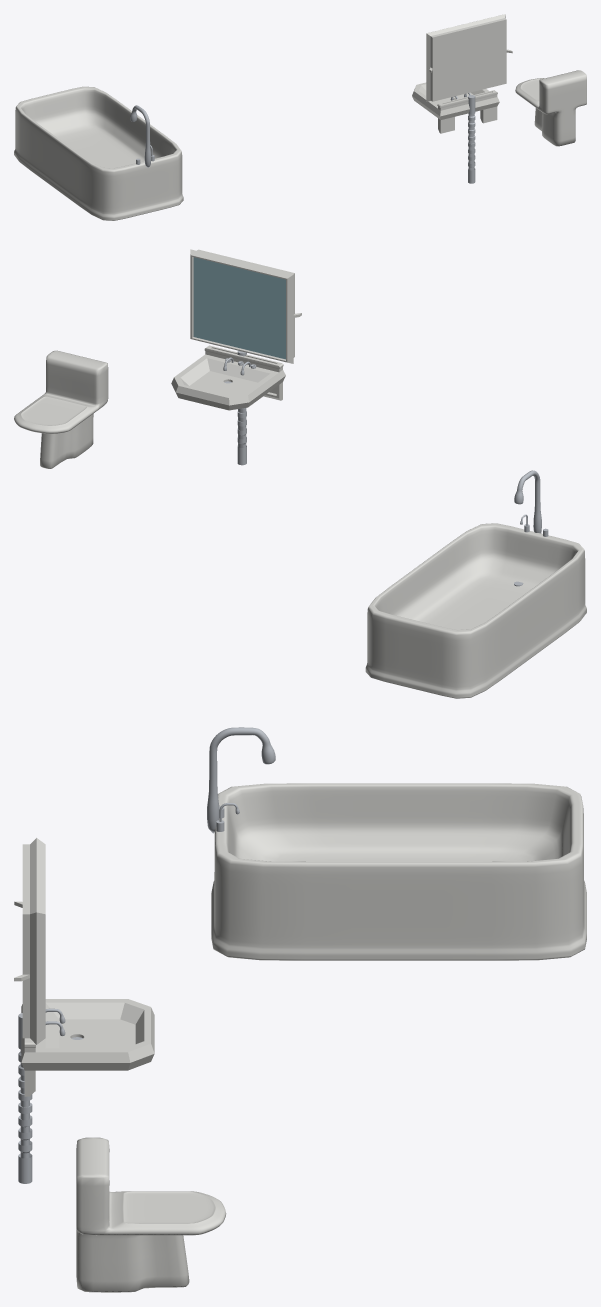
Rendered from furniture_bath_f2.glb.
3 renders of one model, top to bottom at view 1: azimuth 30°, elevation 25°; view 2: azimuth 150°, elevation 25°; view 3: azimuth 270°, elevation 25°, orthographic. The views are drawn at different scales.
Parts seen in each view (by area): view 1: FURN_tub, FURN_mirror, FURN_toilet, FURN_sink, FURN_pipe, FURN_tub_shower; view 2: FURN_tub, FURN_mirror, FURN_toilet, FURN_sink, FURN_tub_shower, FURN_pipe; view 3: FURN_tub, FURN_toilet, FURN_sink, FURN_mirror, FURN_tub_shower, FURN_pipe.
Boxes of the visible parts, bbox=[...] form: FURN_tub: bbox=[14, 86, 183, 220]; FURN_mirror: bbox=[426, 14, 512, 101]; FURN_toilet: bbox=[515, 70, 586, 146]; FURN_sink: bbox=[412, 82, 499, 133]; FURN_pipe: bbox=[468, 95, 475, 183]; FURN_tub_shower: bbox=[130, 105, 151, 167]; FURN_tub: bbox=[365, 523, 586, 698]; FURN_mirror: bbox=[190, 249, 301, 363]; FURN_toilet: bbox=[14, 350, 108, 468]; FURN_sink: bbox=[171, 345, 285, 410]; FURN_tub_shower: bbox=[514, 470, 541, 533]; FURN_pipe: bbox=[237, 350, 246, 465]; FURN_tub: bbox=[211, 783, 586, 960]; FURN_toilet: bbox=[76, 1137, 226, 1292]; FURN_sink: bbox=[21, 999, 154, 1096]; FURN_mirror: bbox=[14, 838, 45, 1044]; FURN_tub_shower: bbox=[207, 727, 275, 833]; FURN_pipe: bbox=[18, 1013, 32, 1183].
Size of the model in its own units: 6.2 by 2.07 by 3.54.
